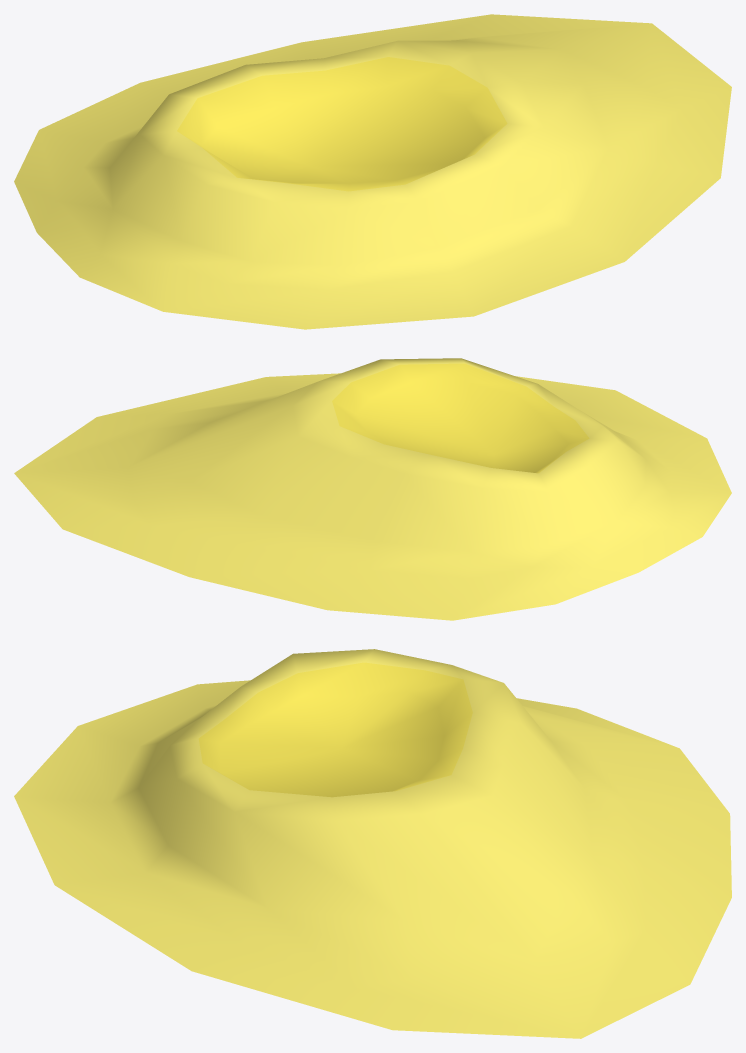
File: Hill_026.glb
3 renders of one model, top to bottom at view 1: azimuth 30°, elevation 25°; view 2: azimuth 150°, elevation 25°; view 3: azimuth 270°, elevation 25°, orthographic. The views are drawn at different scales.
Visible parts, largest first — view 1: Hill_026; view 2: Hill_026; view 3: Hill_026.
Boxes of the visible parts, x1=… form: Hill_026: x1=14, y1=14, x2=731, y2=329; Hill_026: x1=14, y1=358, x2=731, y2=620; Hill_026: x1=14, y1=649, x2=731, y2=1038.
Size of the model in its own units: 2.19 by 0.2889 by 1.85.
Materials: 1 (1 with a texture image).
